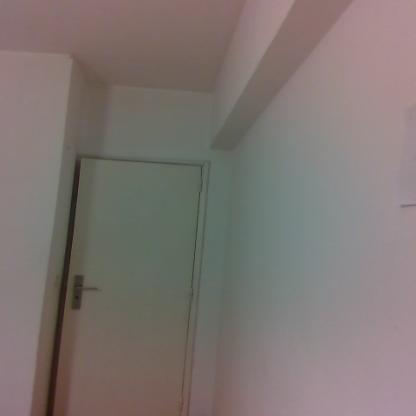closed: (60, 133, 236, 416)
